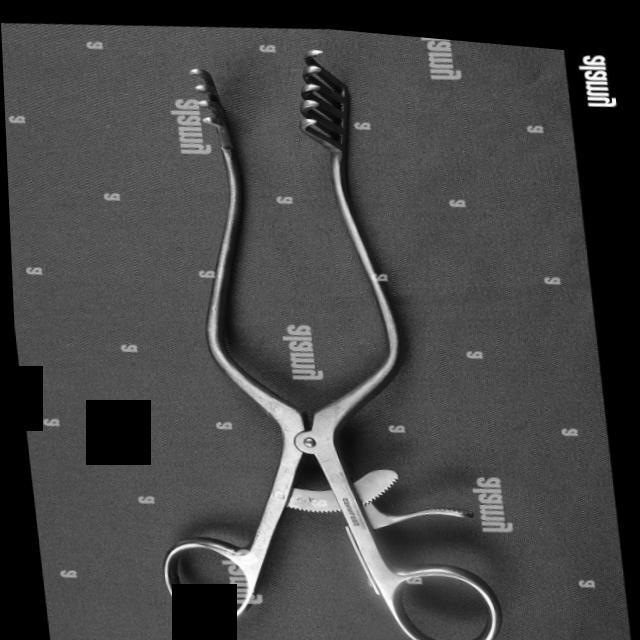Self Retractor: (86, 6, 503, 640)
